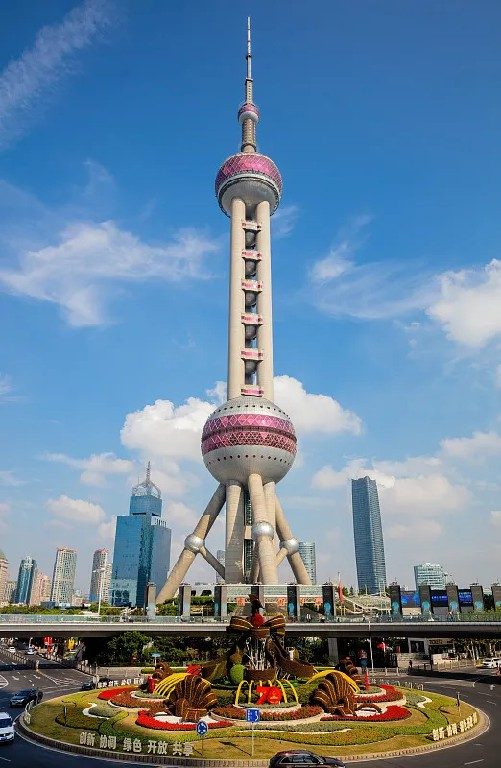Oriental: (157, 15, 311, 602)
